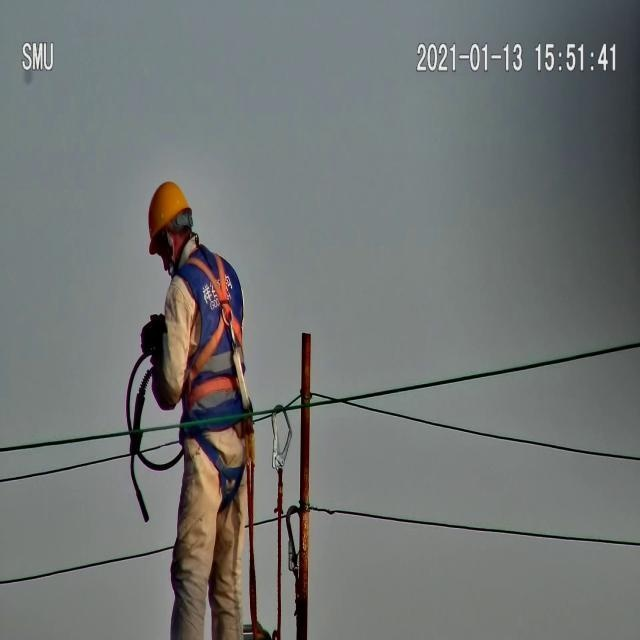Arnes_seguridad: (174, 240, 246, 423)
